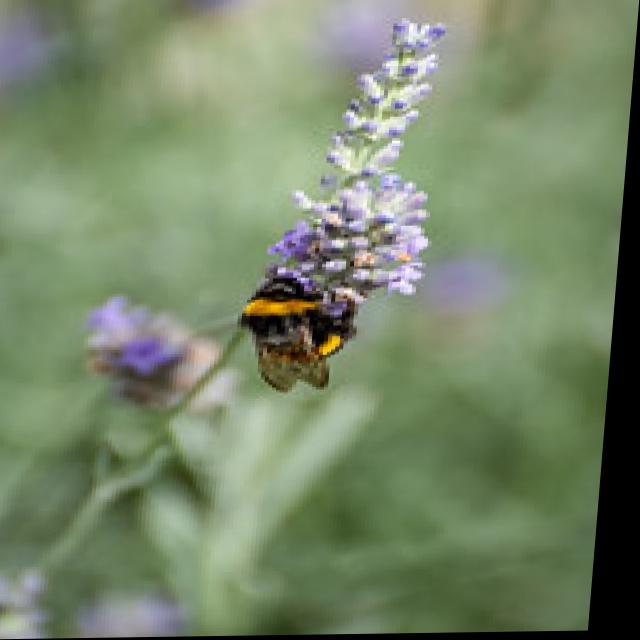Abeille: (219, 254, 388, 397)
